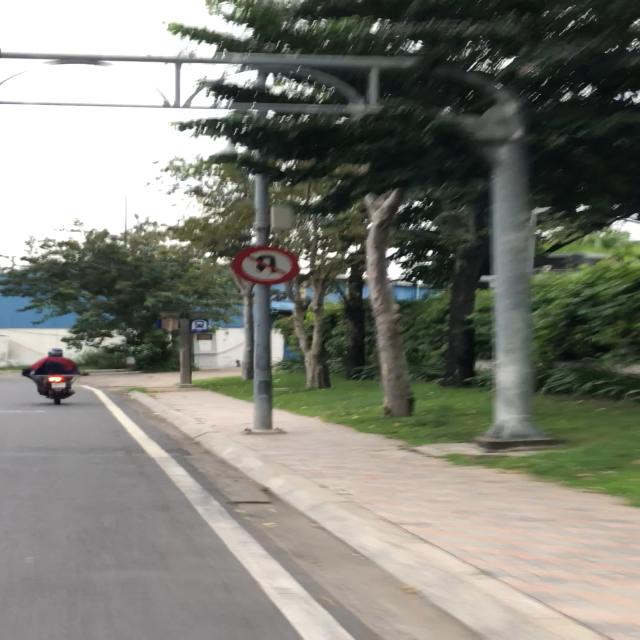Bien bao cam quay dau xe: (226, 241, 306, 287)
